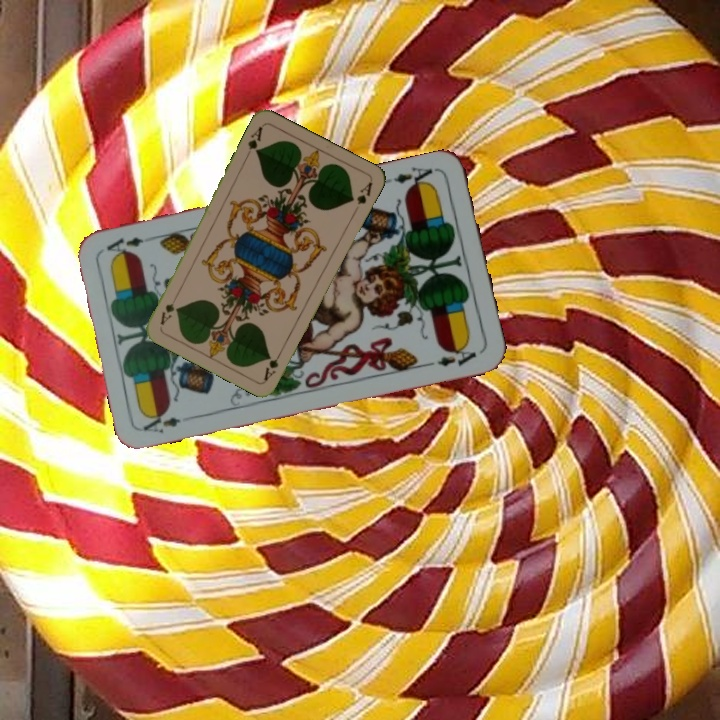EA: (139, 407, 198, 436), (390, 163, 440, 192)
GA: (260, 345, 285, 383), (244, 122, 265, 156)
